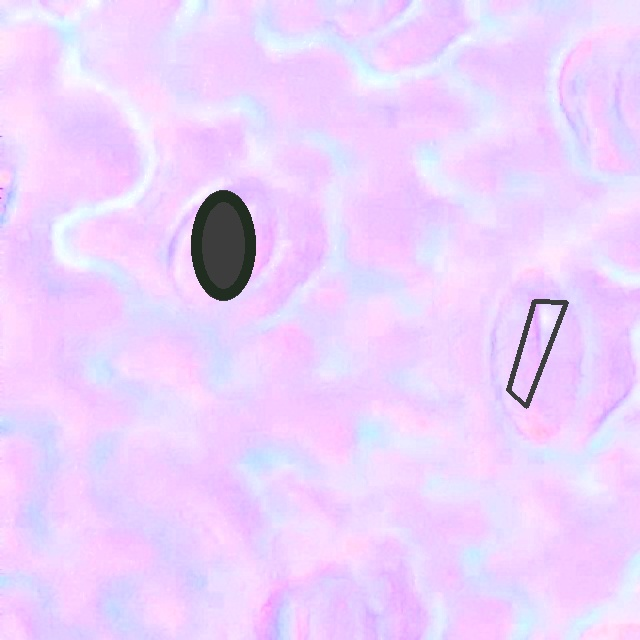close: (506, 299, 568, 408)
open: (191, 190, 256, 300)
